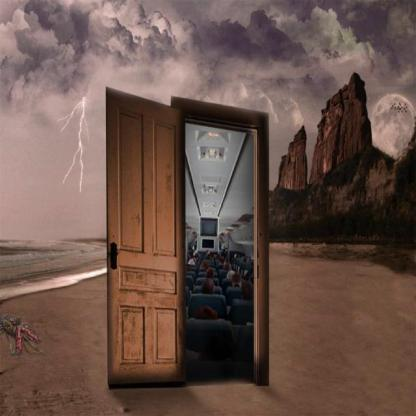door: (99, 78, 278, 400)
